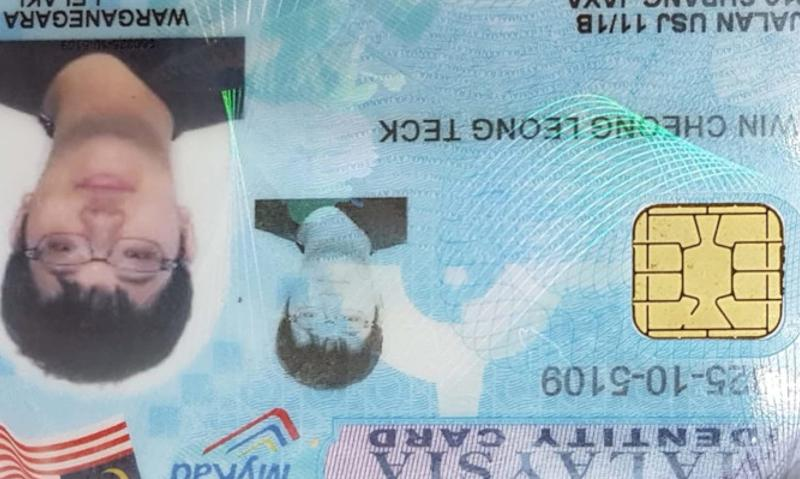hologram: (434, 147, 623, 352)
